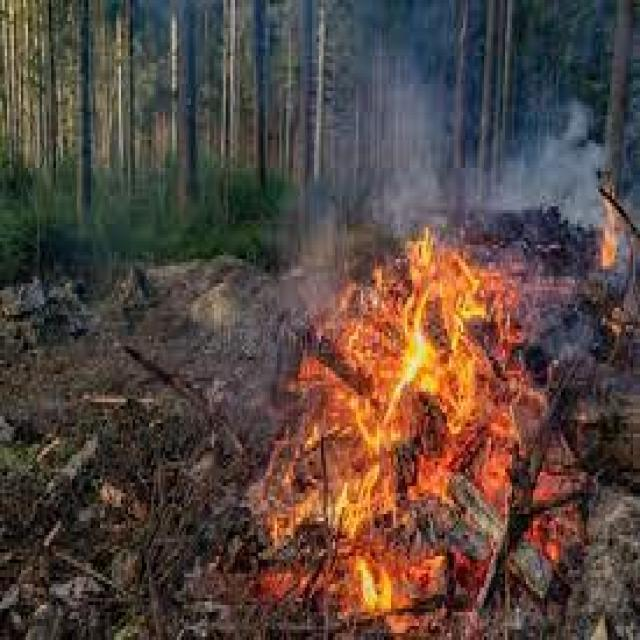Fire: (232, 175, 640, 640), (586, 170, 633, 280)
Smoke: (356, 23, 458, 225), (510, 104, 625, 227)
